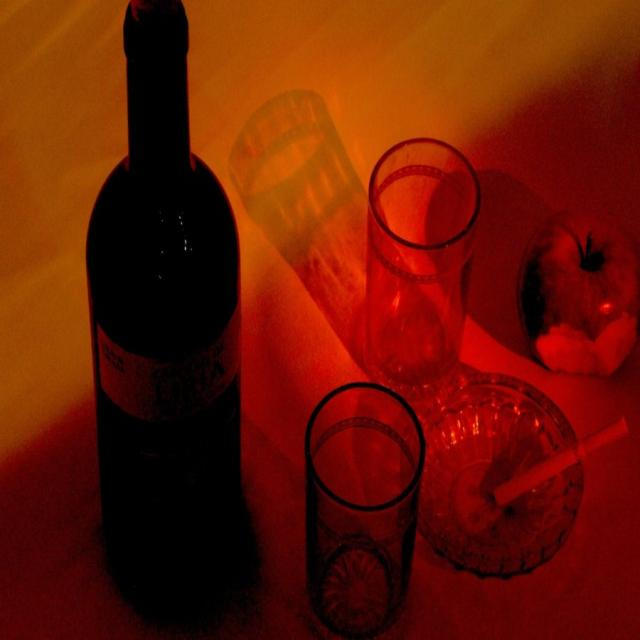Bottle: (86, 0, 265, 604)
Cup: (280, 357, 424, 634), (347, 128, 473, 406)
